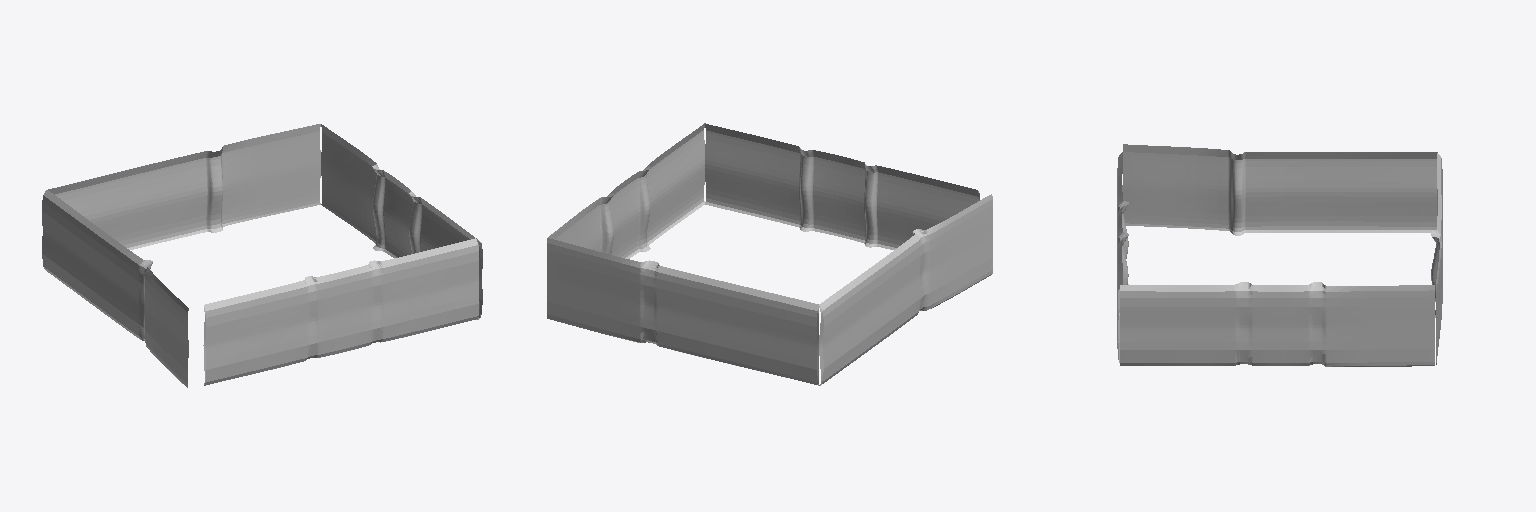
File: newwalls9.obj
3 views of the same model, side by side, from view 1: azimuth 30°, elevation 25°; view 2: azimuth 150°, elevation 25°; view 3: azimuth 270°, elevation 25° (orthographic).
Parts seen in each view (by area): view 1: Loft.4; view 2: Loft.4; view 3: Loft.4.
Part boxes in pixels (x1,y1,x2,y2): Loft.4: (42,124,482,387); Loft.4: (547,123,992,385); Loft.4: (1117,144,1442,366).
Size of the model in its own units: 1173 by 310 by 1126.